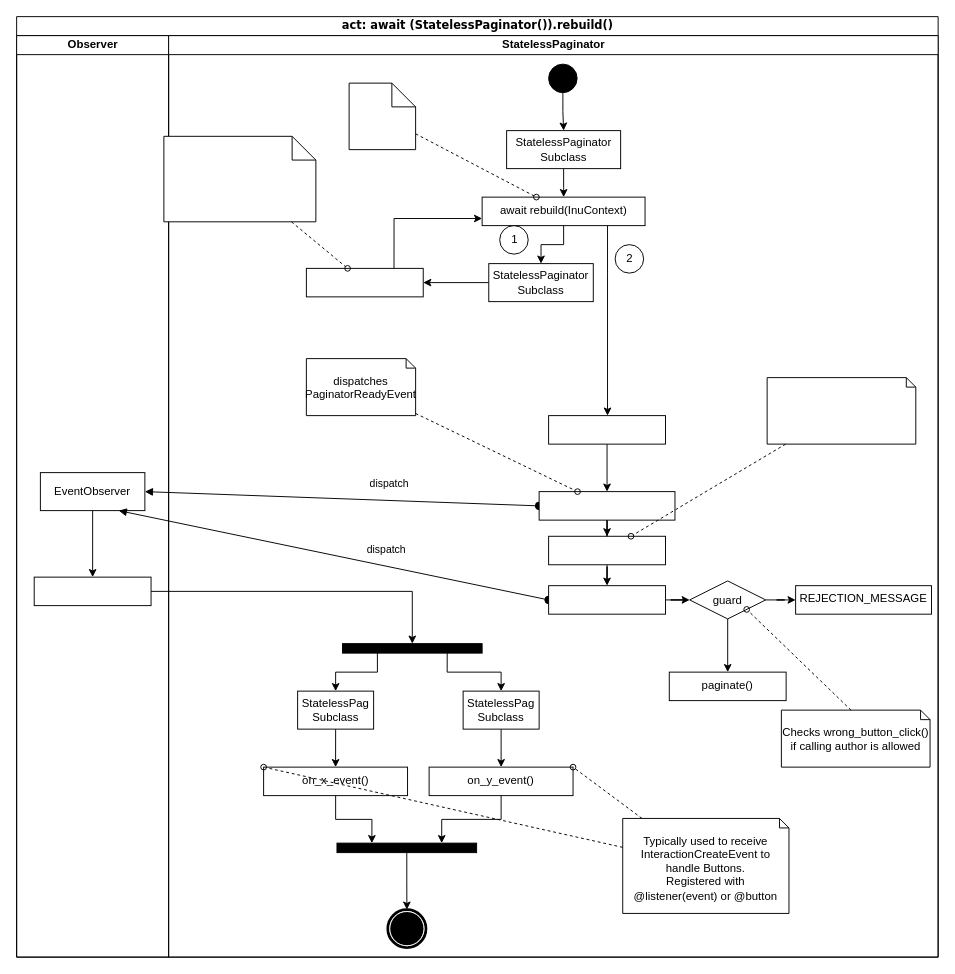
This 955x974 diagram has some shape labels left out. The centre of each missing label's shape, as x and y in pixels:
await _rebuild(): (x=364, y=282)
await dispatch_event(): (x=606, y=505)
await notify(): (x=92, y=591)
await post_start(): (x=606, y=429)
Called for every passed Event. Usually only InteractionCreateEvent: (x=841, y=410)
Called from external: (x=382, y=116)
dispatch_event(): (x=606, y=599)
pagination_loop(): (x=606, y=550)
usually overwritten by Child Classes. Context and CustomID should be set here: (x=239, y=178)
